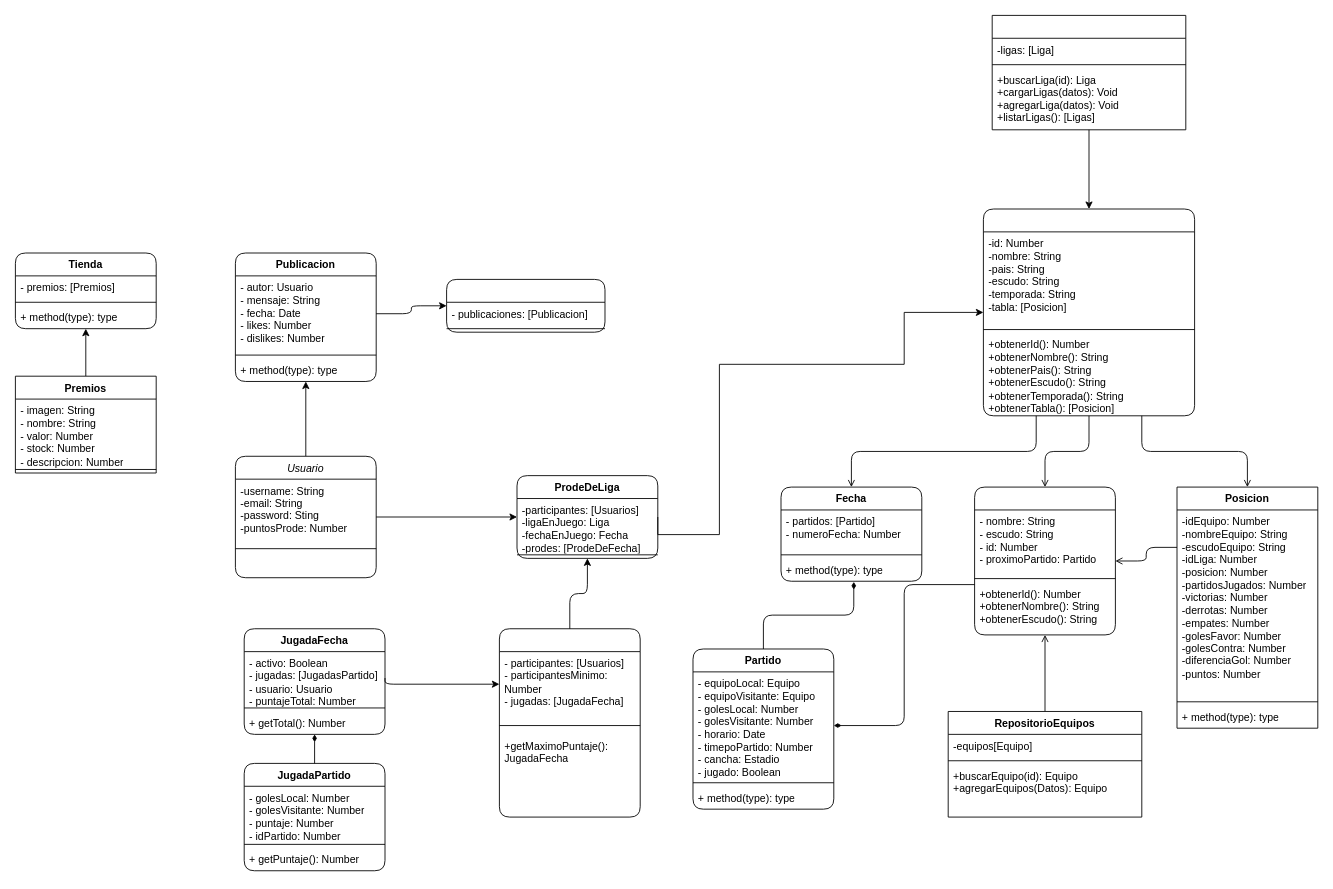
Some shapes in this 1333 by 889 pixel diagram are drawn without their labels. Here are the shapes that lost their labels. From the top down, the box of each, then its label:
(991, 15, 1186, 130): RepositorioLigas
(446, 279, 605, 332): Foro
(983, 208, 1195, 416): Liga
(974, 486, 1115, 635): Equipo
(499, 628, 640, 817): ProdeDeFecha
